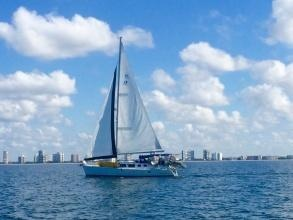fanchuan: (76, 36, 187, 176)
